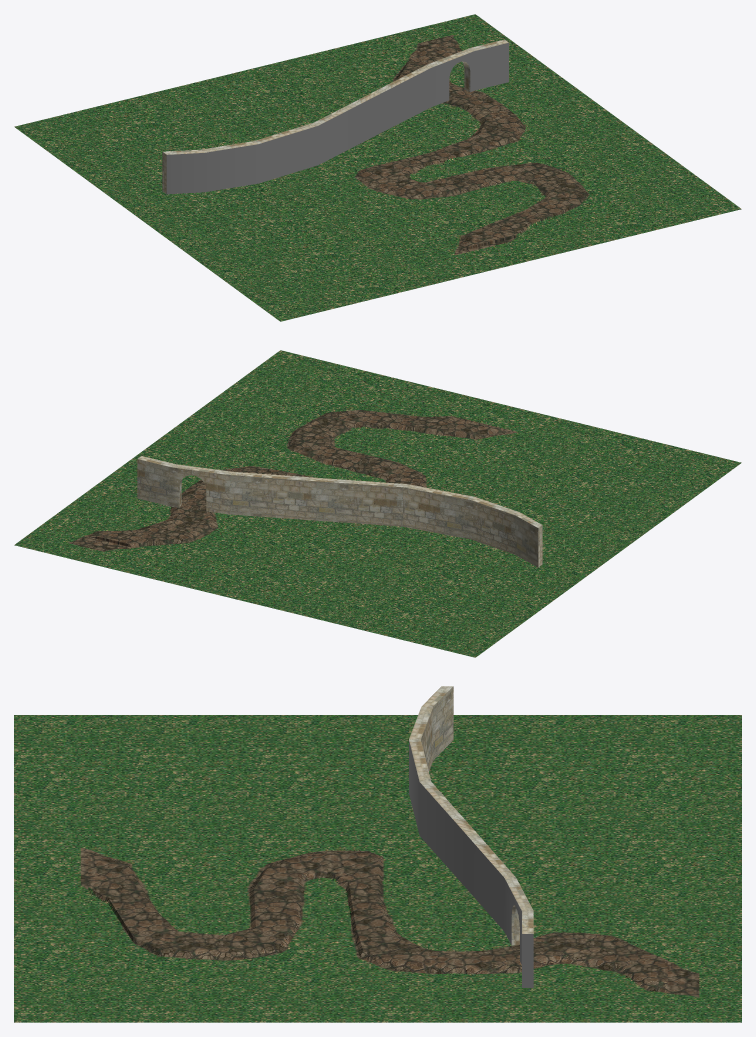
The model's file is enviro.fbx.
The picture shows the model from 3 angles, top to bottom: view 1: azimuth 30°, elevation 25°; view 2: azimuth 150°, elevation 25°; view 3: azimuth 270°, elevation 25°; orthographic projection. The views are drawn at different scales.
Parts seen in each view (by area): view 1: pPlane2, pCube3; view 2: pPlane2, pCube3; view 3: pPlane2, pCube3.
Part boxes in pixels (x1=…): pPlane2: x1=14, y1=14, x2=741, y2=321; pCube3: x1=162, y1=39, x2=508, y2=194; pPlane2: x1=14, y1=350, x2=741, y2=657; pCube3: x1=137, y1=456, x2=542, y2=567; pPlane2: x1=14, y1=715, x2=741, y2=1022; pCube3: x1=409, y1=686, x2=533, y2=987.
Size of the model in its own units: 24.15 by 2.1 by 24.15.
